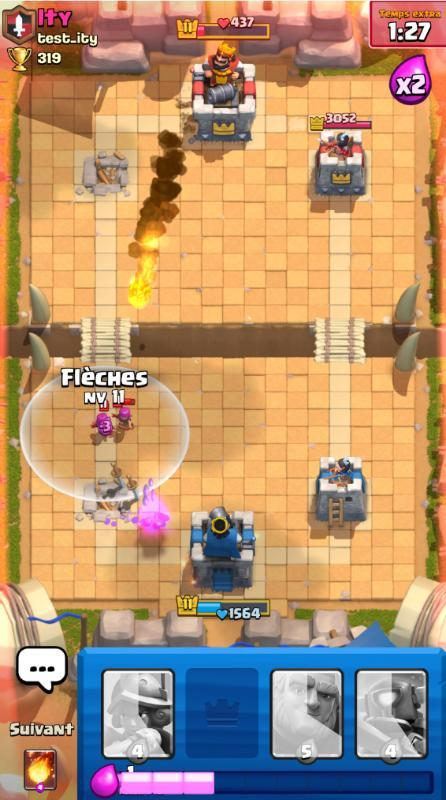archere: (91, 399, 116, 442), (112, 398, 136, 433)
